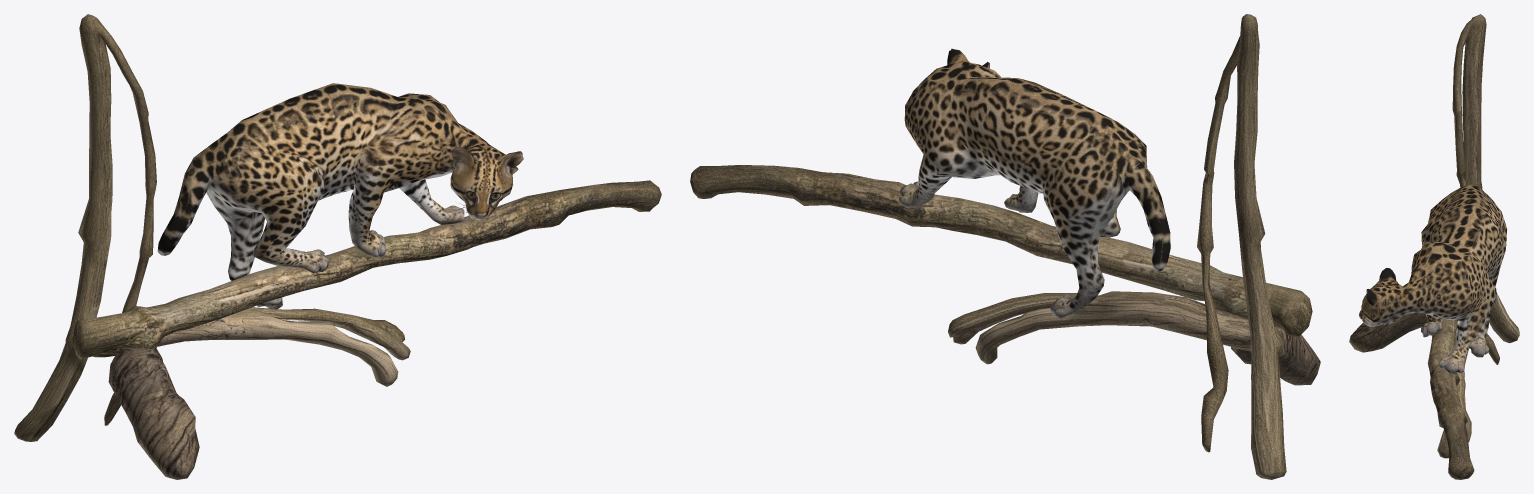
The model's file is jaguatirica_novo.glb.
The picture shows the model from 3 angles, left to right: view 1: azimuth 30°, elevation 25°; view 2: azimuth 150°, elevation 25°; view 3: azimuth 270°, elevation 25°; orthographic projection. The views are drawn at different scales.
Size of the model in its own units: 0.9536 by 0.6436 by 0.2905.
Materials: 1 (1 with a texture image).
